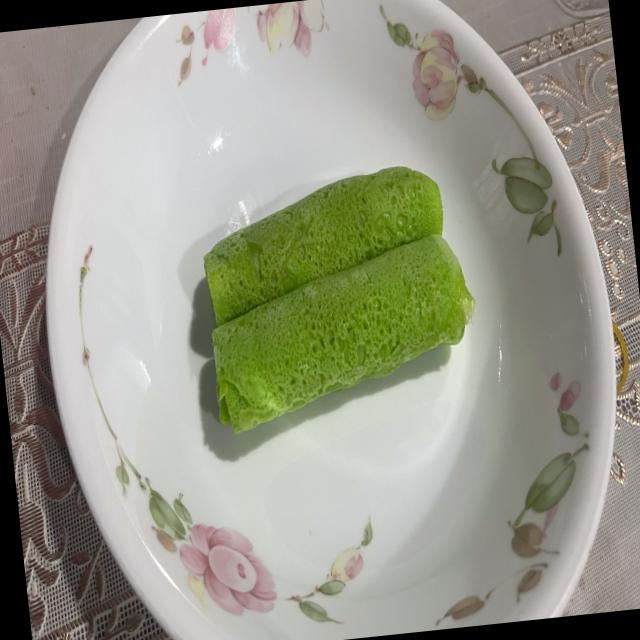Kuih-Ketayap: (212, 234, 474, 432), (203, 166, 443, 324)
